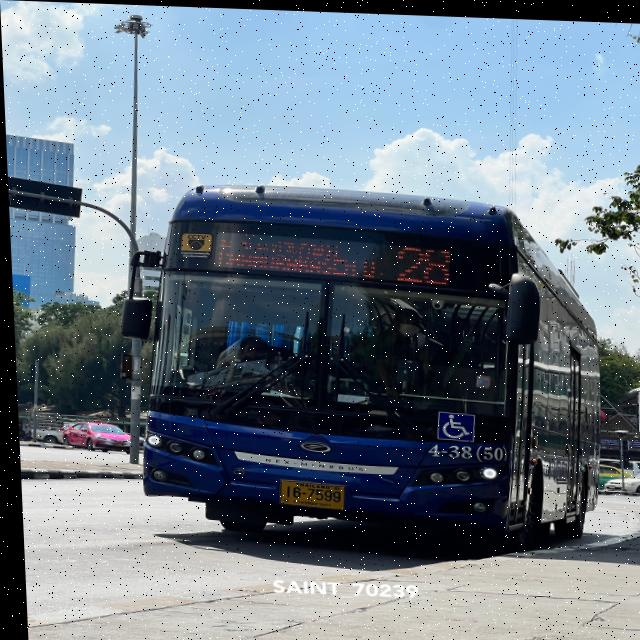BMTA-bus: (124, 182, 600, 548)
Bus Line Number: (386, 235, 460, 291)
Bus Side Number: (423, 440, 508, 460)
Destination Sign: (213, 227, 382, 294)
